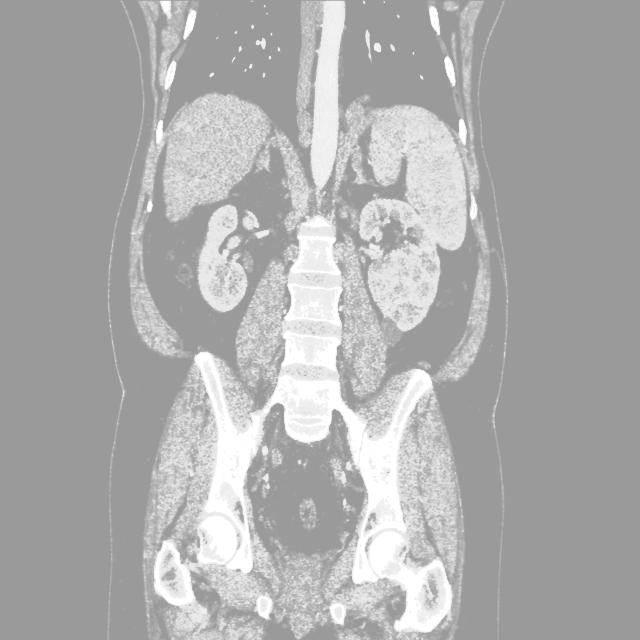TUMOR: (93, 125, 551, 527)
